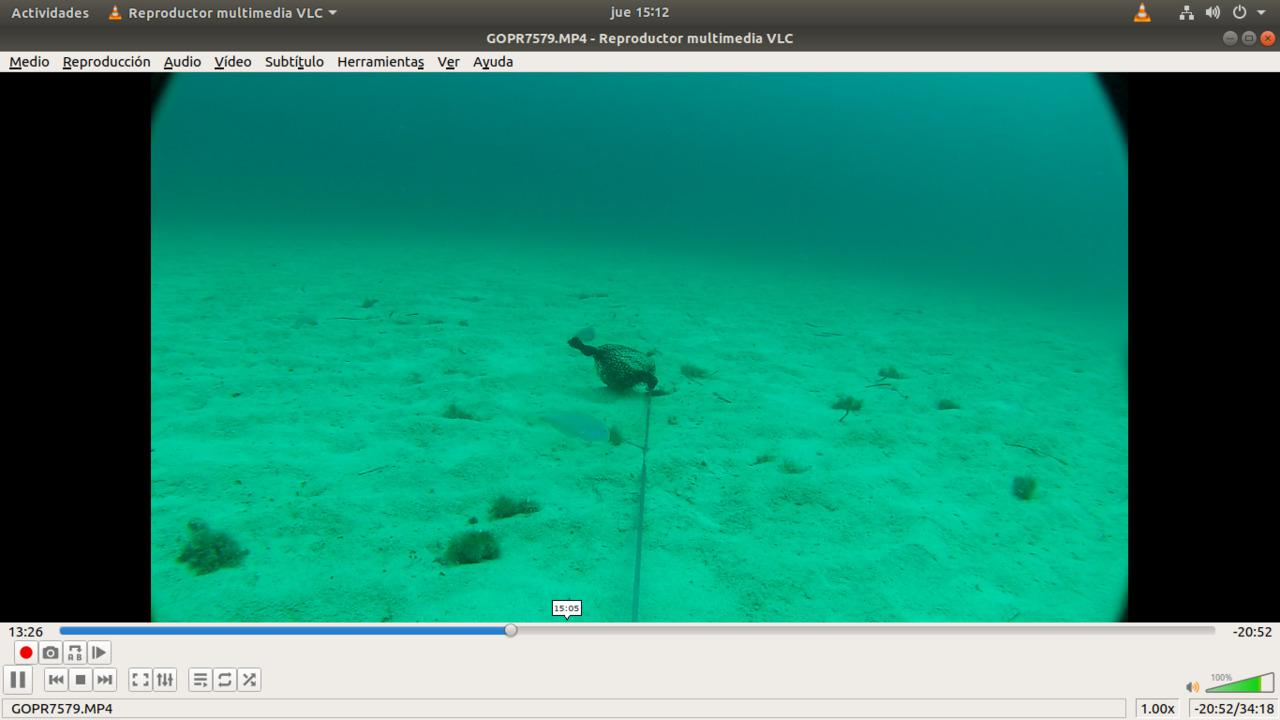raor: (520, 401, 620, 447), (559, 325, 605, 351)
